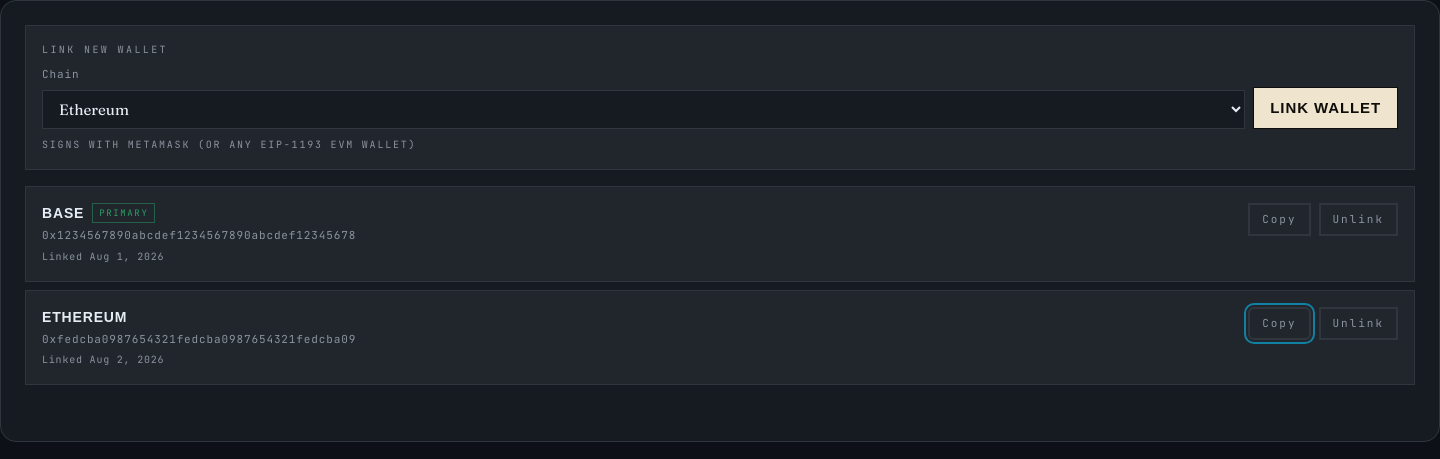
Test case: copy address › keyboard activation announces exactly as a click does
The image size is (1440, 459).
Press Enter in the button with aria-label "Copy Ethereum wallet address", box [1248,307,1310,340]
Click the button with aria-label "Copy Ethereum wallet address" at (1279, 323), box [1248,307,1310,340]
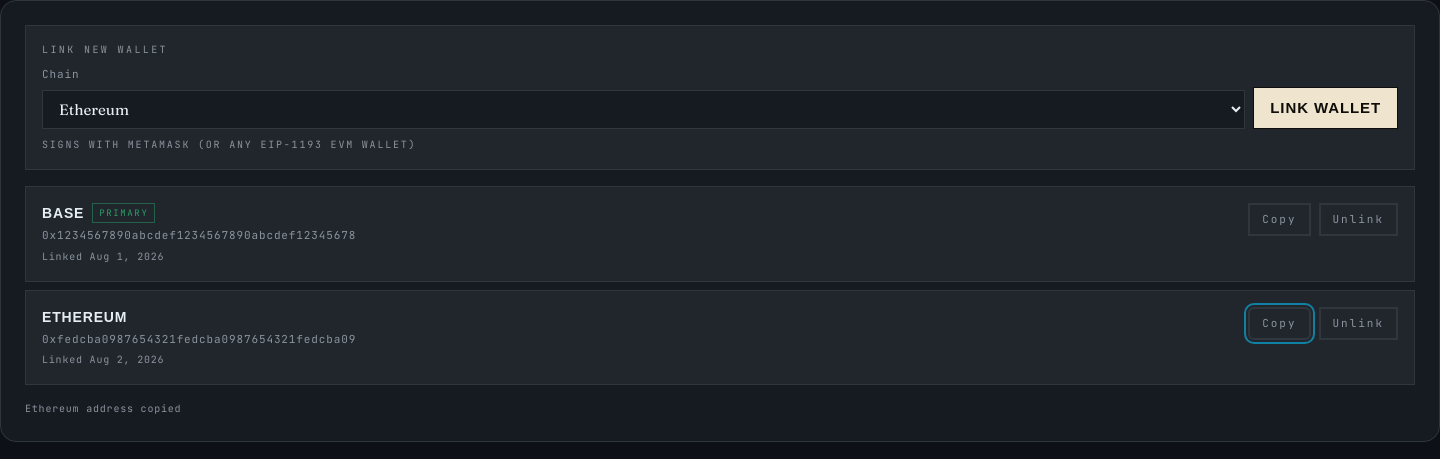
Expected: the text "Ethereum address copied" is shown, [25,402,181,415]
